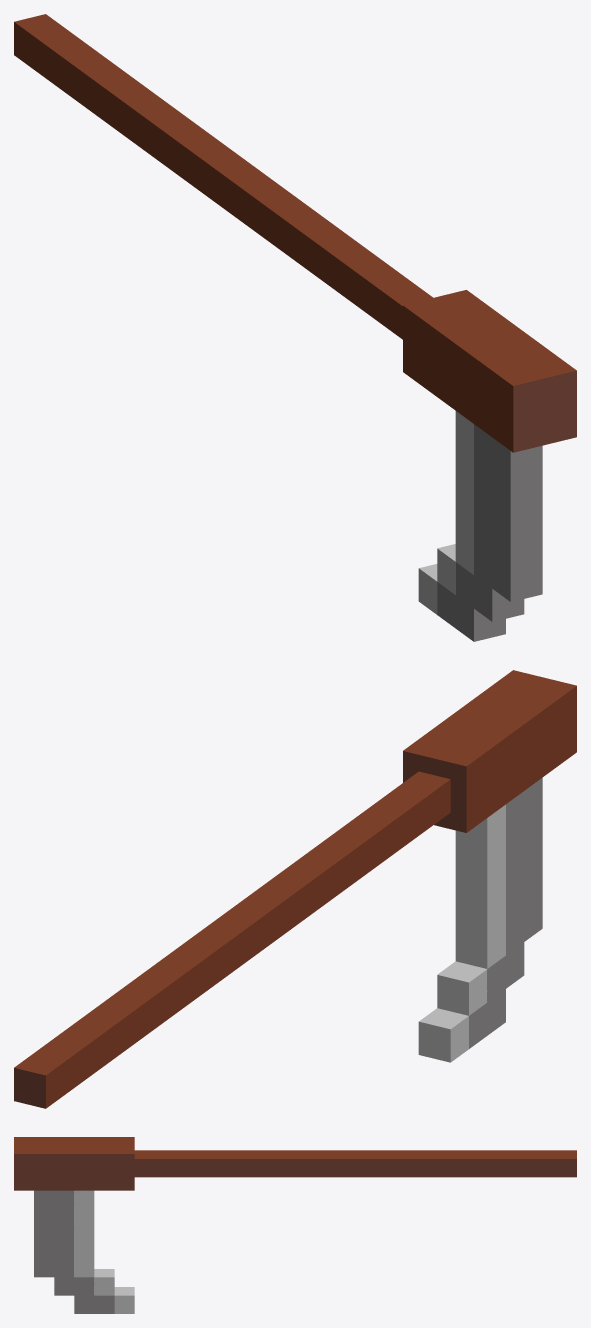
File: scythe_basic.fbx
The picture shows the model from 3 angles, top to bottom: view 1: azimuth 30°, elevation 25°; view 2: azimuth 150°, elevation 25°; view 3: azimuth 270°, elevation 25°; orthographic projection. The views are drawn at different scales.
Visible parts, largest first — view 1: cube, cube.001, cube.002, cube.004, cube.005, cube.003, cube.006; view 2: cube, cube.001, cube.002, cube.004, cube.006, cube.005, cube.003; view 3: cube, cube.001, cube.002, cube.004, cube.003, cube.005, cube.006.
Boxes of the visible parts, left/top/right/bottom form: cube: left=14, top=14, right=432, bottom=339; cube.001: left=403, top=290, right=576, bottom=452; cube.002: left=455, top=429, right=542, bottom=601; cube.004: left=437, top=544, right=524, bottom=621; cube.005: left=437, top=582, right=505, bottom=641; cube.003: left=455, top=411, right=542, bottom=468; cube.006: left=418, top=564, right=437, bottom=614; cube: left=14, top=771, right=450, bottom=1108; cube.001: left=403, top=670, right=576, bottom=832; cube.002: left=455, top=795, right=542, bottom=968; cube.004: left=437, top=942, right=524, bottom=1015; cube.006: left=418, top=1008, right=468, bottom=1062; cube.005: left=469, top=989, right=505, bottom=1048; cube.003: left=469, top=778, right=542, bottom=835; cube: left=134, top=1150, right=576, bottom=1177; cube.001: left=14, top=1137, right=134, bottom=1190; cube.002: left=34, top=1204, right=94, bottom=1277; cube.004: left=54, top=1269, right=114, bottom=1295; cube.003: left=34, top=1190, right=94, bottom=1204; cube.005: left=74, top=1295, right=114, bottom=1313; cube.006: left=114, top=1287, right=134, bottom=1313.
Bounding box in the file's own units: 12.5 × 56.25 × 175.
1 material, 1 textured.
